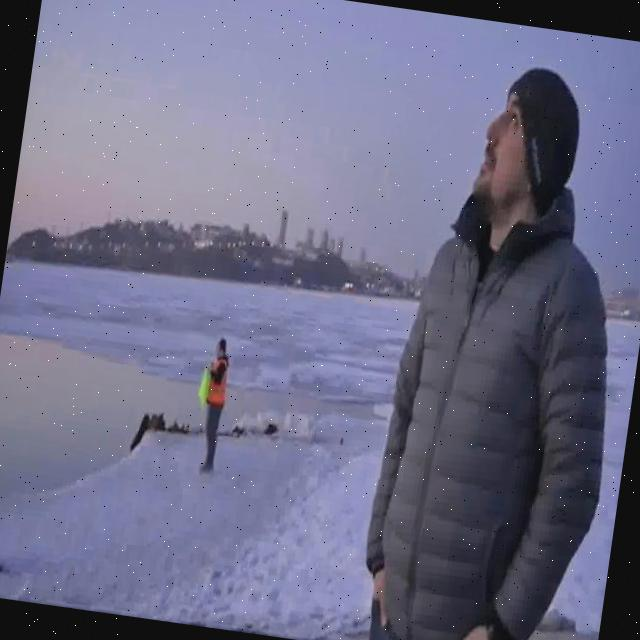vest: (205, 358, 232, 408), (197, 360, 214, 406)
